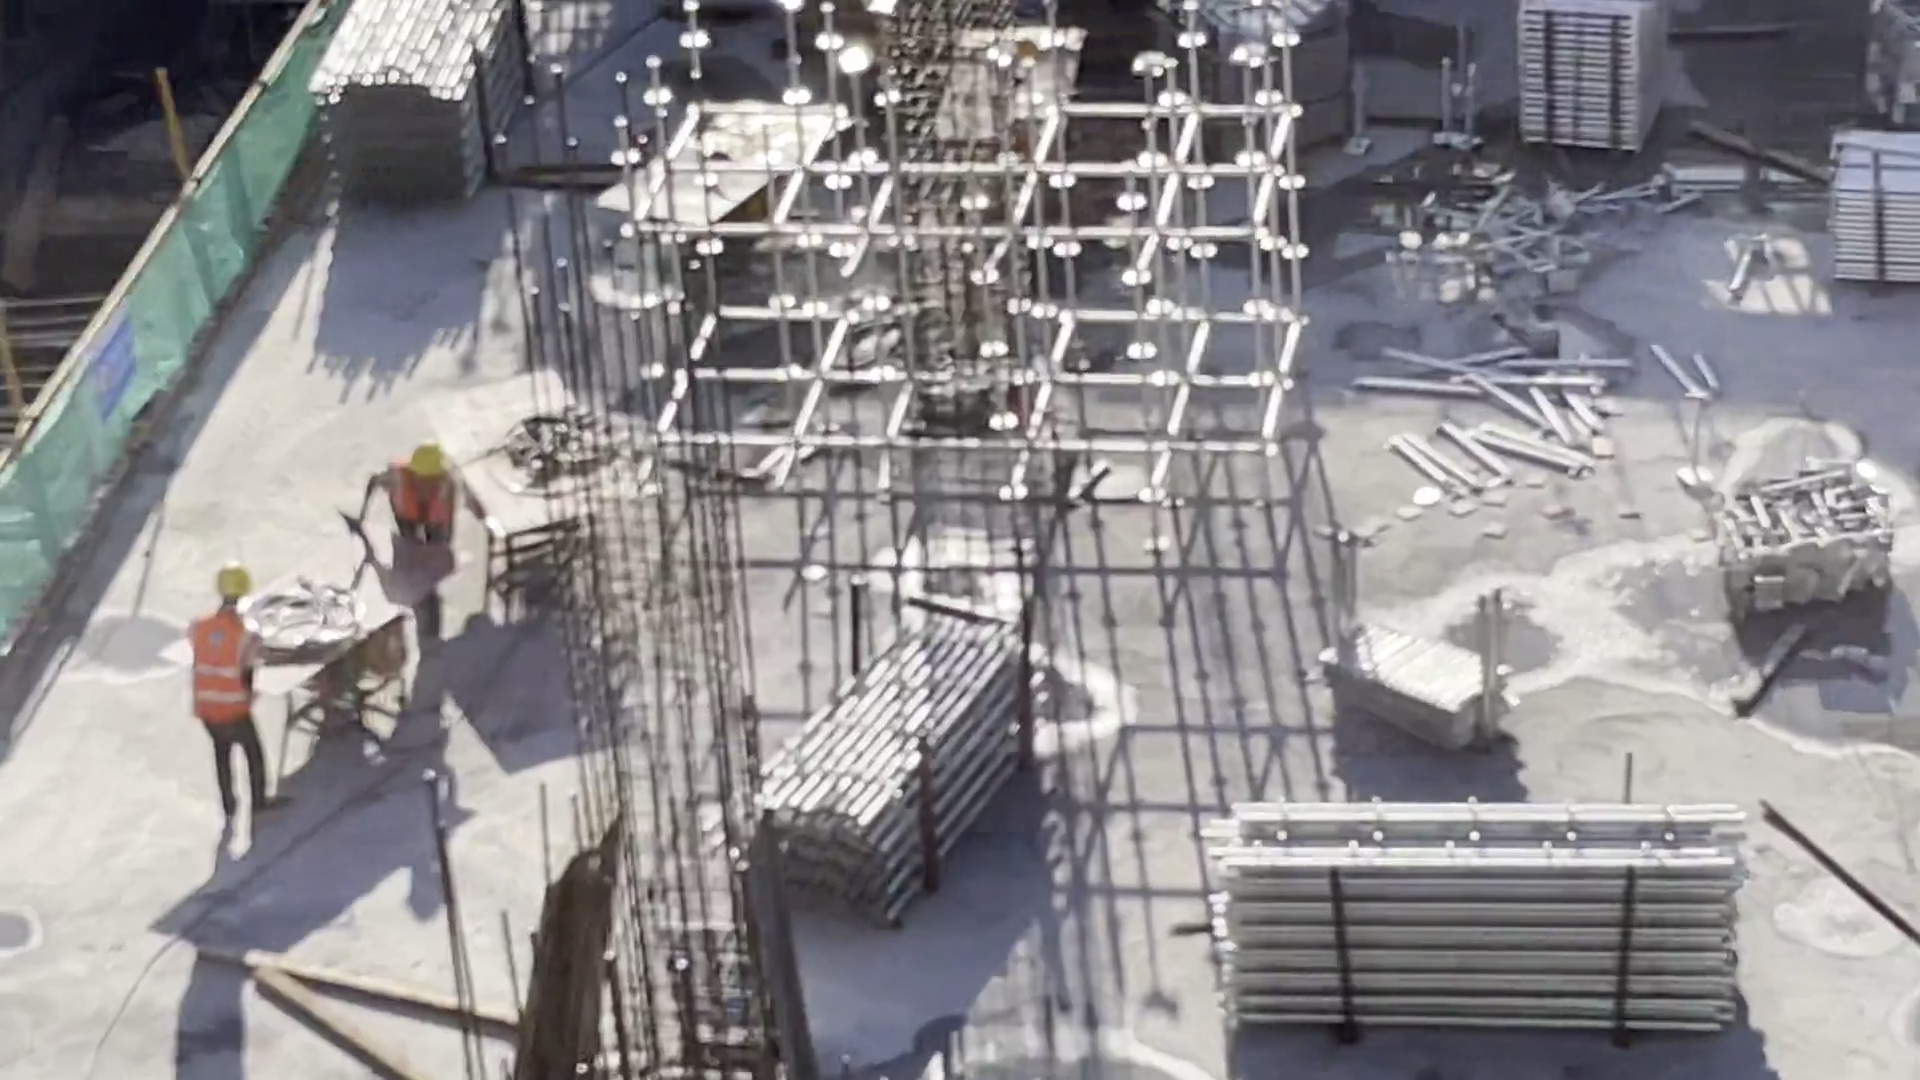board: (488, 826, 614, 1080)
cutter: (436, 342, 649, 593), (600, 87, 848, 295), (233, 574, 410, 745), (921, 31, 1095, 202)
helmet: (400, 437, 462, 474), (217, 563, 262, 605)
person: (182, 564, 278, 813), (341, 452, 475, 549)
scaffold: (1219, 788, 1728, 1046), (753, 608, 1030, 935), (314, 7, 507, 226), (1172, 5, 1358, 160), (1723, 469, 1891, 630), (1518, 1, 1652, 169), (1463, 183, 1629, 317), (1342, 623, 1492, 755), (1821, 139, 1920, 302)
slogan: (77, 305, 151, 442)
vest: (186, 616, 254, 720), (382, 474, 455, 526)
